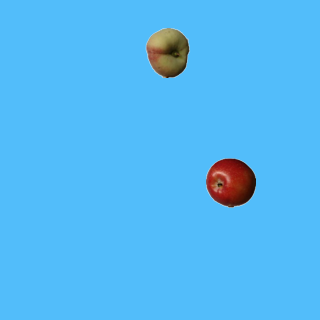Apple Braeburn: (205, 157, 255, 207)
Peach Flat: (142, 27, 192, 77)
